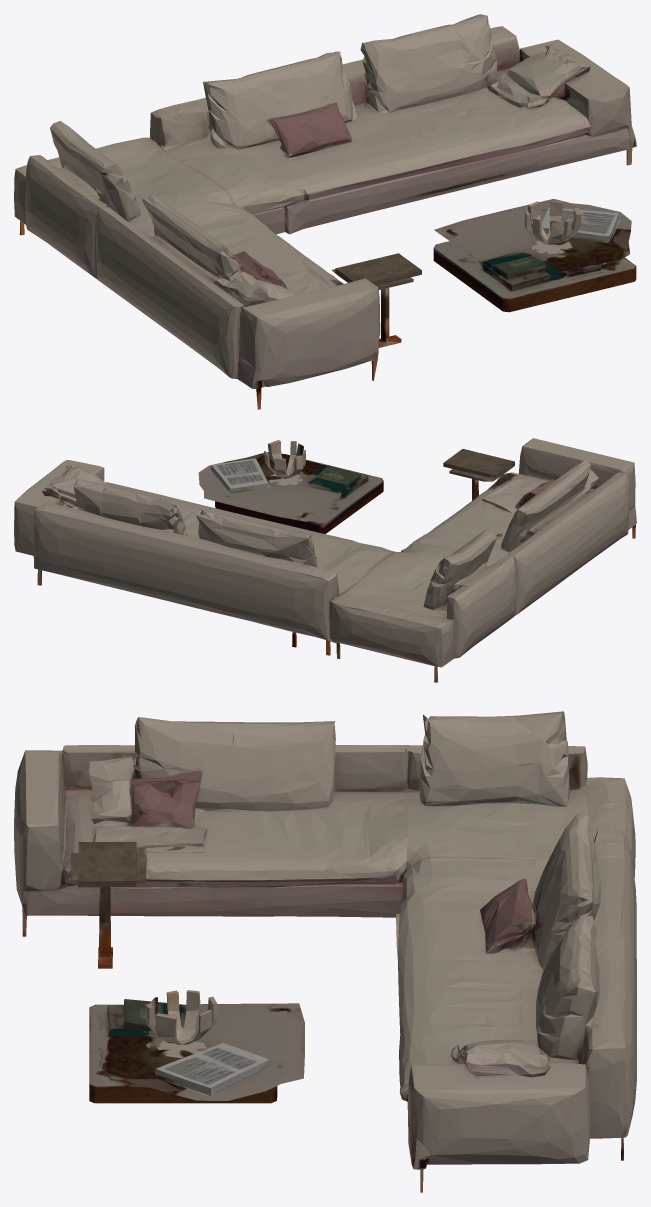
Rendered from Sofas.fbx.
The picture shows the model from 3 angles, top to bottom: view 1: azimuth 30°, elevation 25°; view 2: azimuth 150°, elevation 25°; view 3: azimuth 270°, elevation 25°; orthographic projection. The views are drawn at different scales.
Parts seen in each view (by area): view 1: tripo_node_466c0476; view 2: tripo_node_466c0476; view 3: tripo_node_466c0476.
Boxes of the visible parts, x1=… form: tripo_node_466c0476: x1=14, y1=14, x2=636, y2=409; tripo_node_466c0476: x1=14, y1=438, x2=636, y2=682; tripo_node_466c0476: x1=14, y1=711, x2=636, y2=1192.
Bounding box in the file's own units: 1 × 0.2234 × 0.7749.
Materials: 1 (1 with a texture image).
